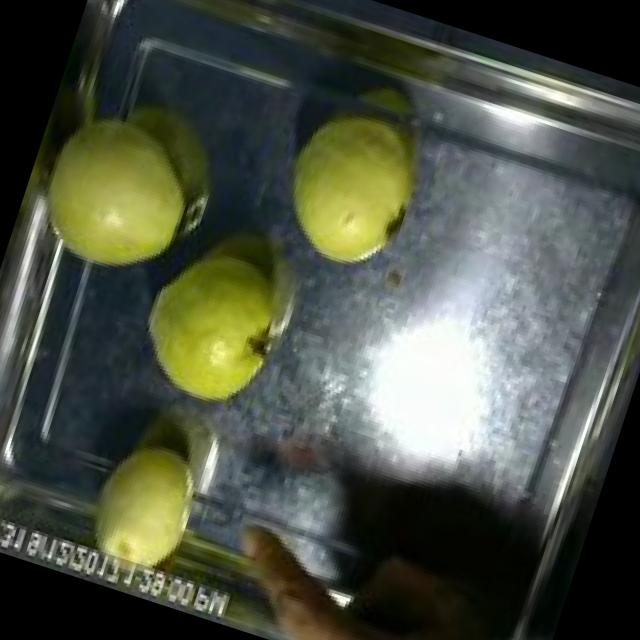Fruit: (10, 88, 224, 302), (114, 223, 313, 432), (258, 85, 446, 293), (64, 420, 222, 606)
